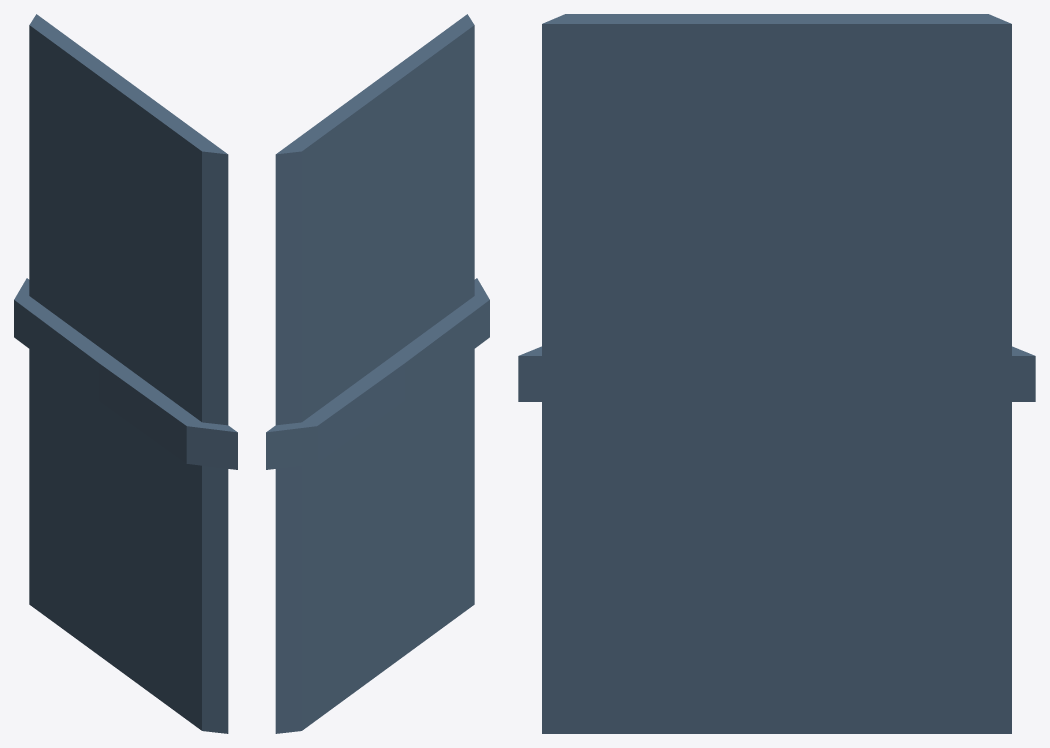
The model's file is WallOnly.FBX.
3 views of the same model, side by side, from view 1: azimuth 30°, elevation 25°; view 2: azimuth 150°, elevation 25°; view 3: azimuth 270°, elevation 25° (orthographic). The views are drawn at different scales.
Parts seen in each view (by area): view 1: WallOnly, Object006; view 2: WallOnly, Object006; view 3: WallOnly, Object006.
Boxes of the visible parts, bbox=[...] form: WallOnly: bbox=[29, 14, 228, 733]; Object006: bbox=[14, 278, 237, 469]; WallOnly: bbox=[275, 14, 474, 733]; Object006: bbox=[266, 278, 489, 469]; WallOnly: bbox=[542, 14, 1011, 733]; Object006: bbox=[518, 346, 1035, 401].
Size of the model in its own units: 11.81 by 197 by 130.
